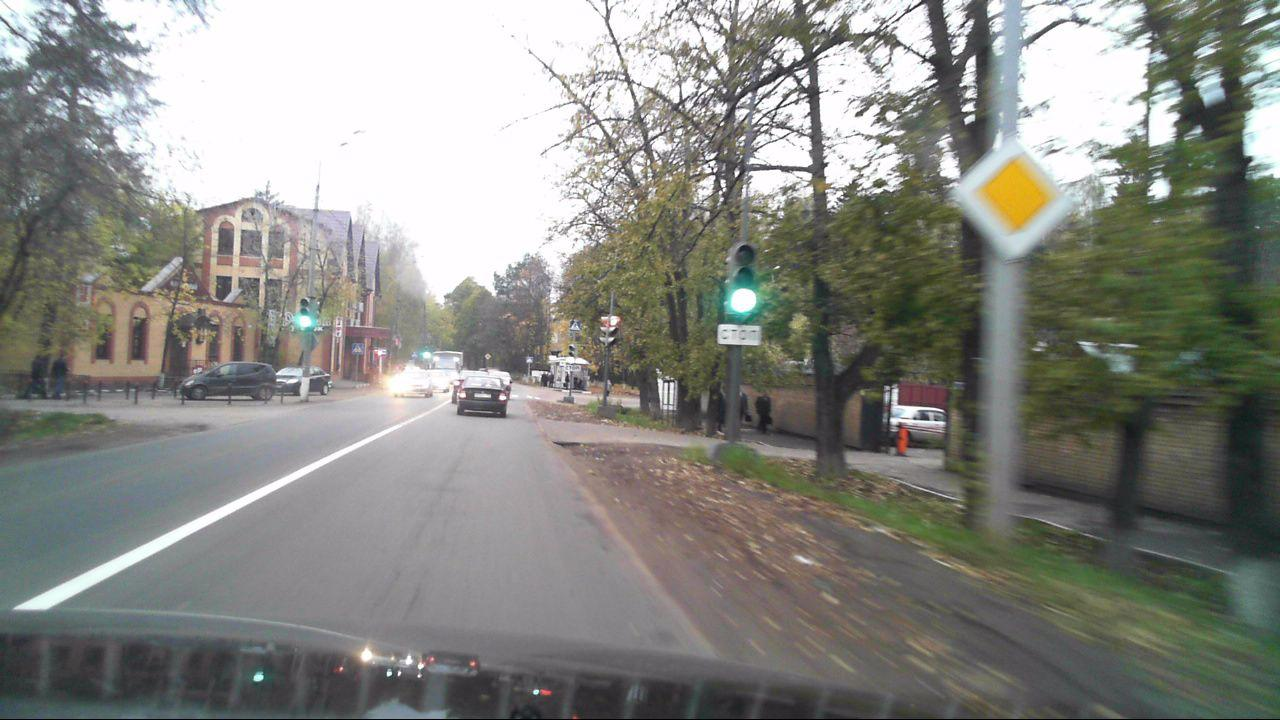2_1: (946, 138, 1072, 252)
5_19_1: (569, 320, 579, 332)
5_19_2: (351, 342, 364, 355)
6_16: (716, 321, 763, 347)
